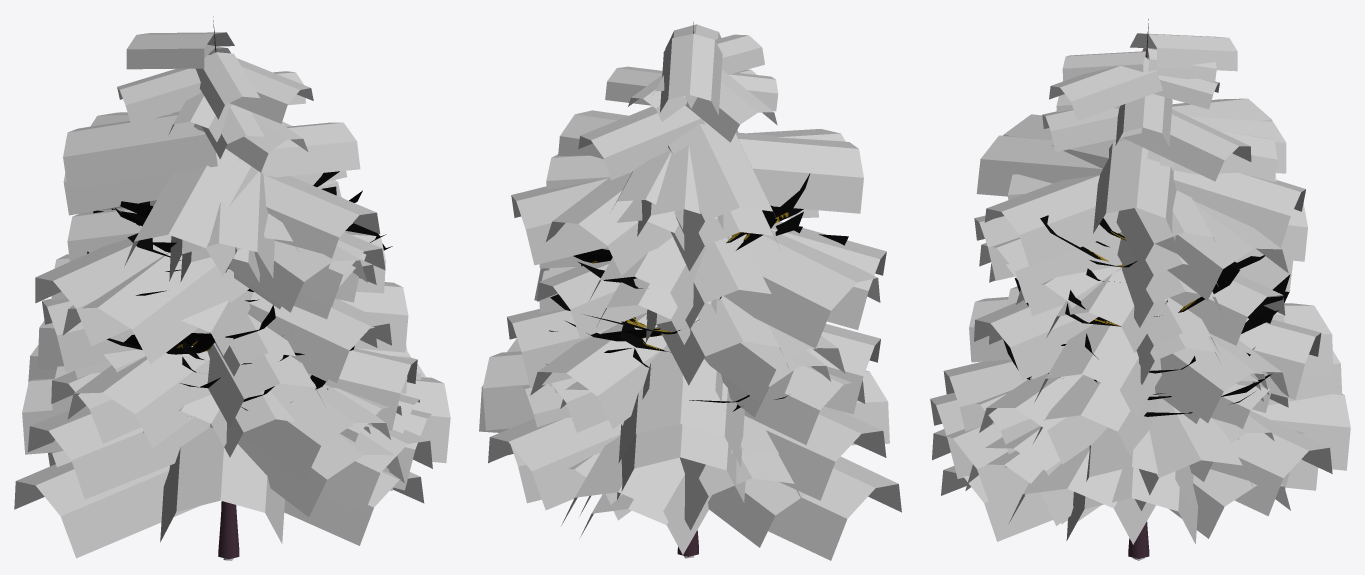
Rendered from trees.fbx.
3 views of the same model, side by side, from view 1: azimuth 30°, elevation 25°; view 2: azimuth 150°, elevation 25°; view 3: azimuth 270°, elevation 25° (orthographic).
Visible parts, largest first — view 1: pine, AspenLeaves; view 2: pine, AspenLeaves; view 3: pine, AspenLeaves.
Boxes of the visible parts, x1,y1,x2,y2 form: pine: [14, 16, 450, 559]; AspenLeaves: [87, 171, 392, 410]; pine: [479, 22, 901, 560]; AspenLeaves: [546, 173, 848, 411]; pine: [930, 18, 1350, 558]; AspenLeaves: [1003, 215, 1290, 416].
Bounding box in the file's own units: 1672 × 2284 × 1615.
